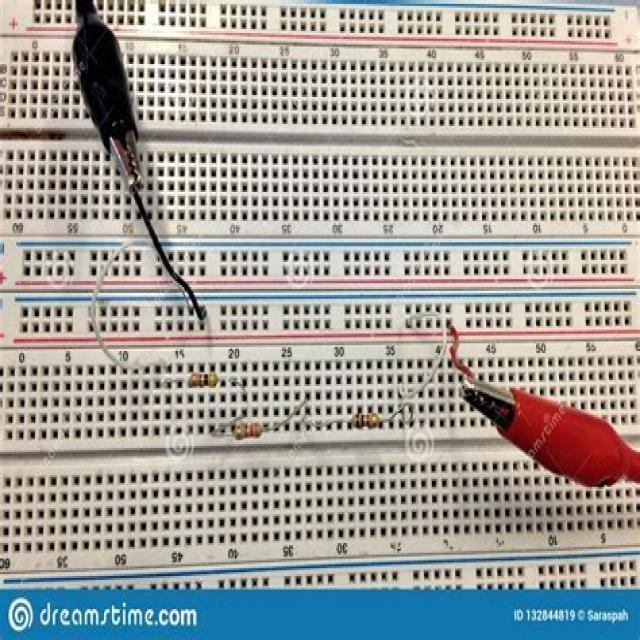capacitor: (350, 411, 383, 432), (188, 369, 220, 389), (232, 418, 262, 439)
